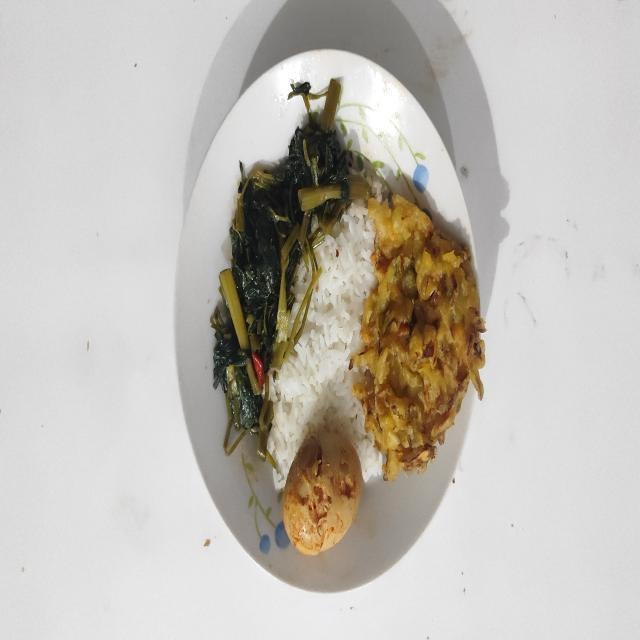nasi_putih: (267, 201, 384, 490)
tumis_kangkung: (211, 79, 372, 460)
